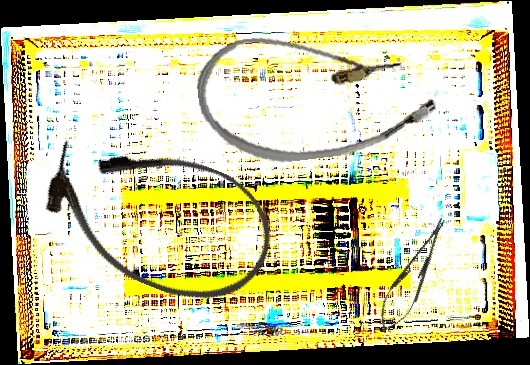Cannula: (25, 113, 291, 323), (192, 17, 441, 172)
Needle Holder: (370, 212, 457, 339)
